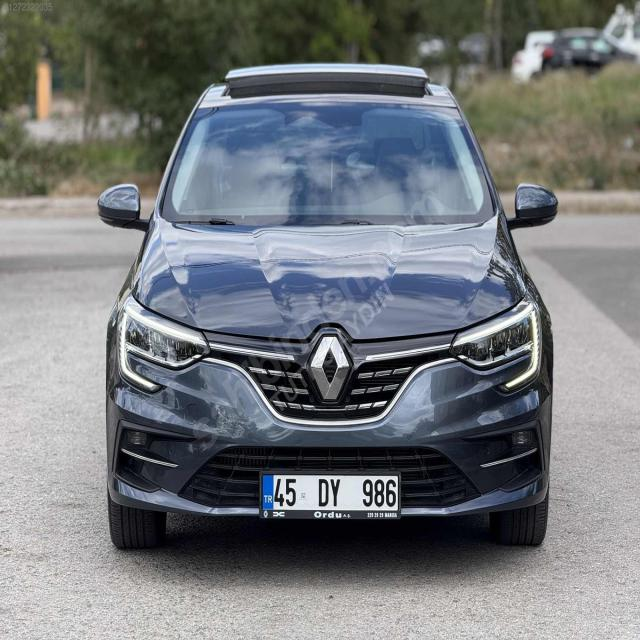renault: (309, 334, 353, 404)
